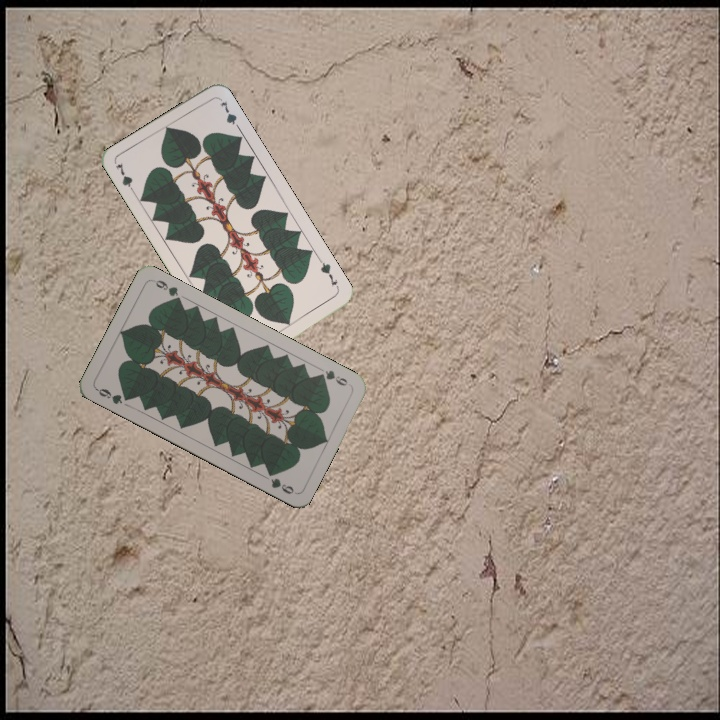G7: (112, 158, 138, 197), (315, 256, 340, 289)
G9: (92, 384, 133, 407), (314, 366, 353, 389)
